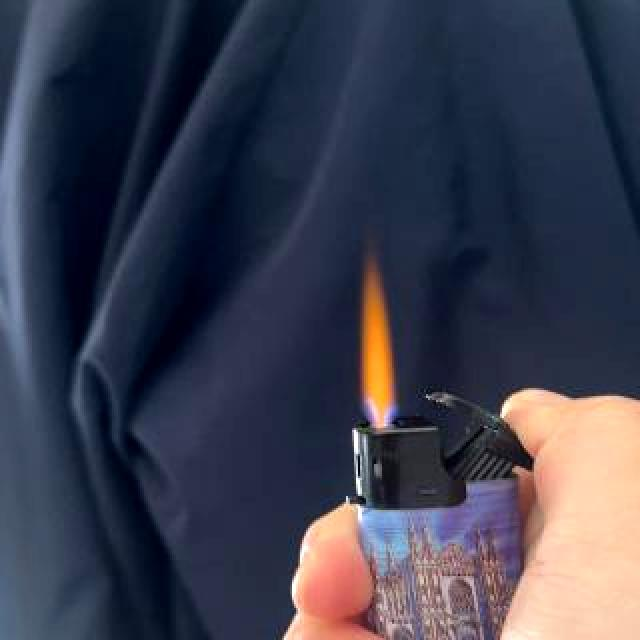fire: (355, 259, 405, 423)
